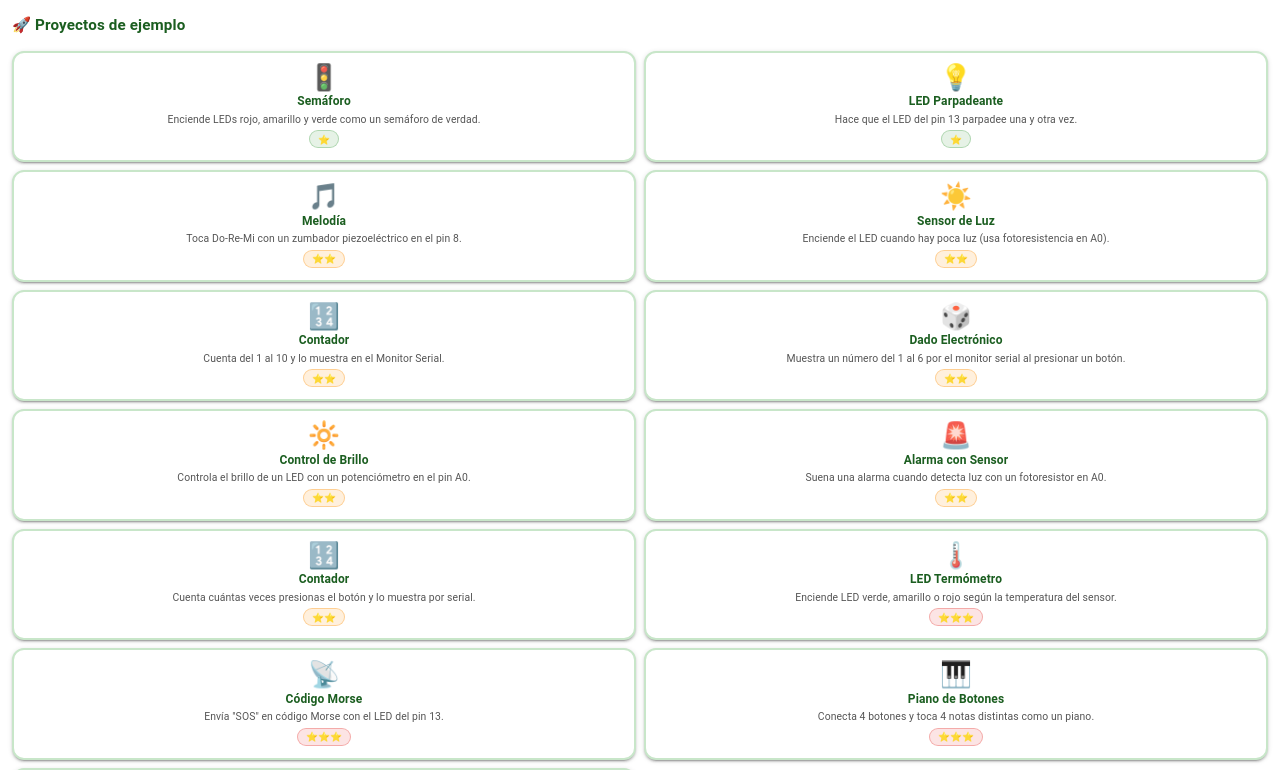
Scenario: KidsProjectsPanel › al pulsar una tarjeta carga el proyecto con su XML y título
This screenshot has width=1280, height=770.
Click the text "Semáforo": (324, 101) left=297, top=94, right=351, bottom=108
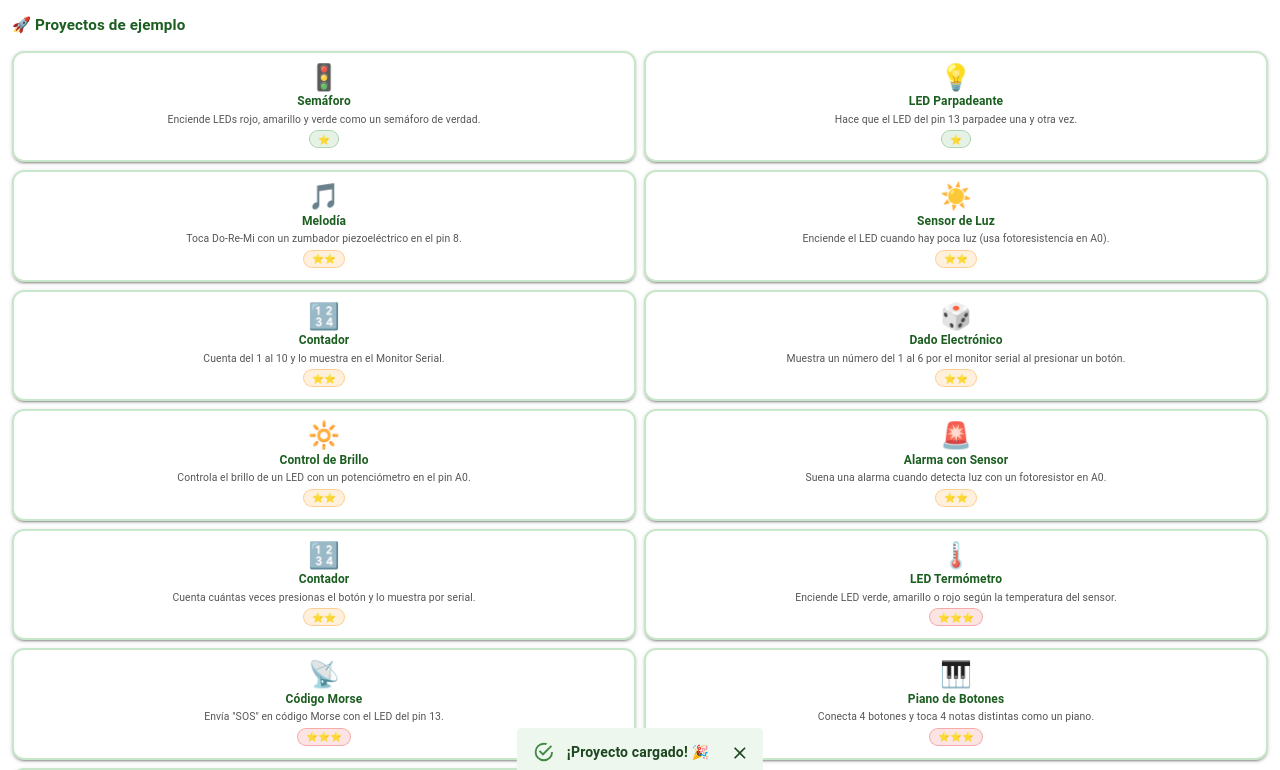
Check: the text "¡Proyecto cargado! 🎉" is shown, box left=567, top=744, right=709, bottom=760
